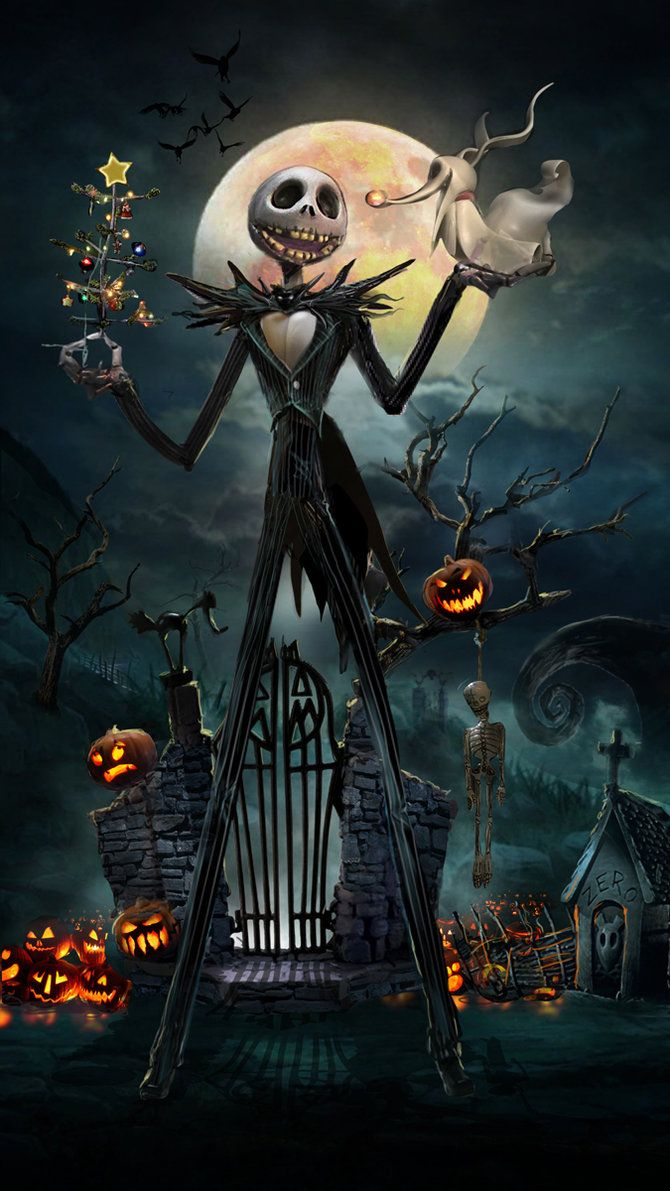Jack Skellington: (57, 162, 555, 1105)
